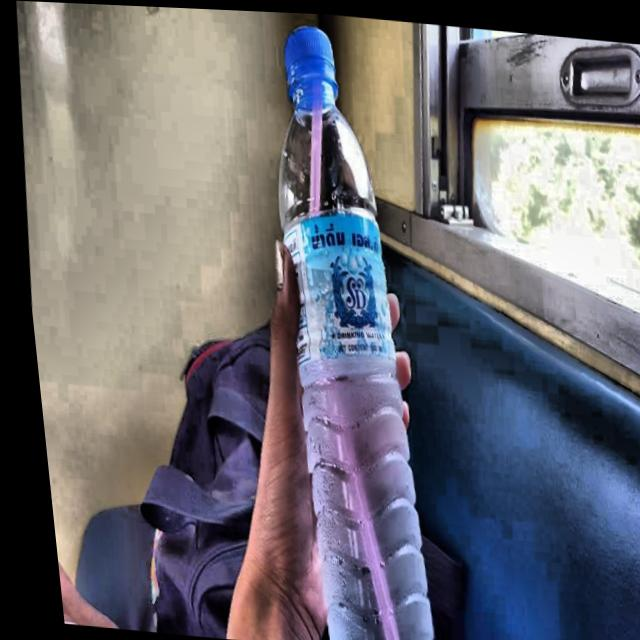Bottles: (230, 13, 471, 640)
